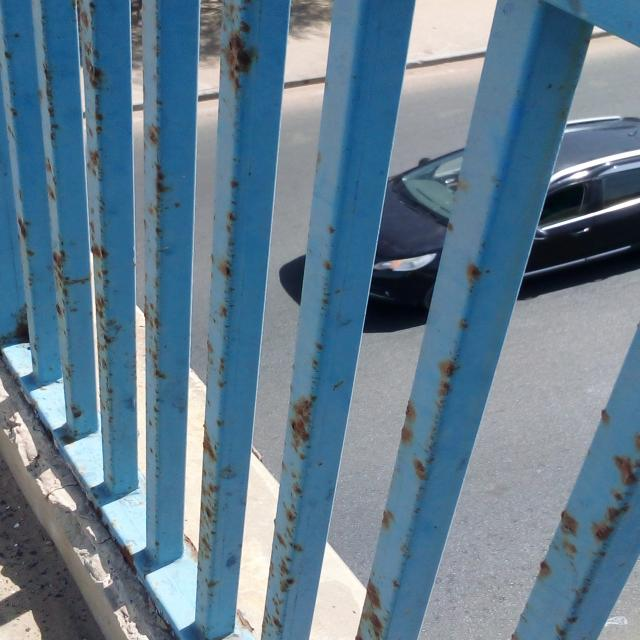particulier: (526, 117, 640, 279), (371, 151, 464, 310)
